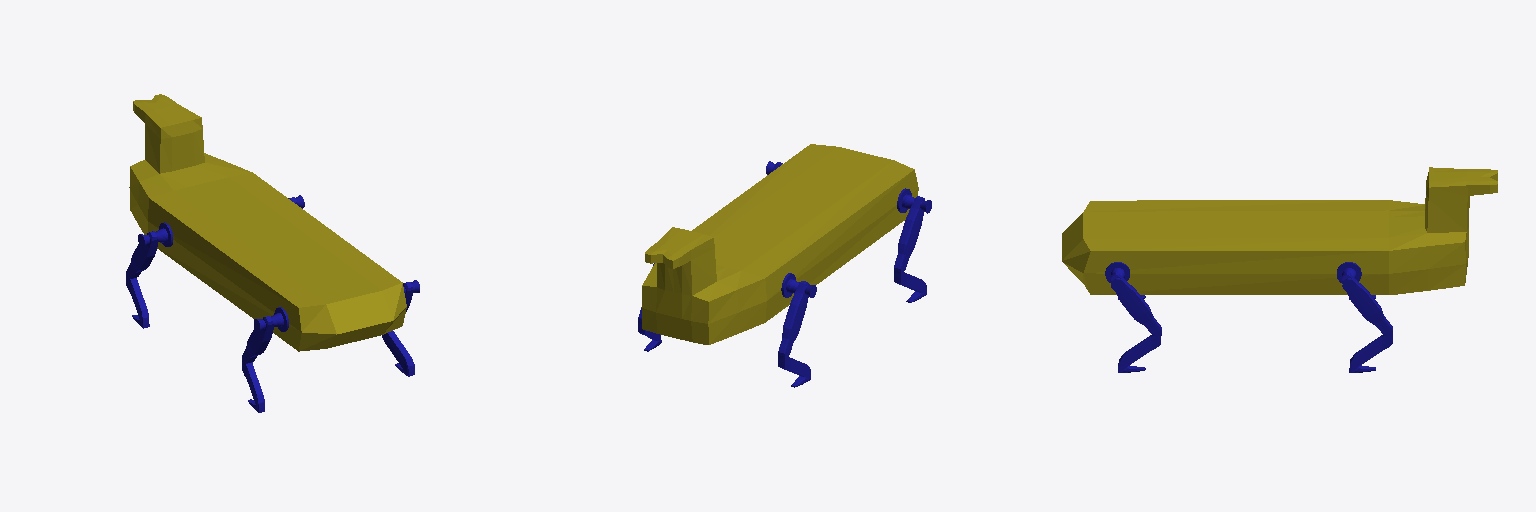
Rendered from dog.obj.
3 renders of one model, left to right at view 1: azimuth 30°, elevation 25°; view 2: azimuth 150°, elevation 25°; view 3: azimuth 270°, elevation 25°, orthographic.
Parts seen in each view (by area): view 1: Cylinder.007_Cylinder.017; view 2: Cylinder.007_Cylinder.017; view 3: Cylinder.007_Cylinder.017.
Part boxes in pixels (x1,y1,x2,y2): Cylinder.007_Cylinder.017: (126, 94, 419, 412); Cylinder.007_Cylinder.017: (638, 144, 931, 386); Cylinder.007_Cylinder.017: (1062, 167, 1497, 372).
Size of the model in its own units: 2.94 by 2.79 by 6.96.